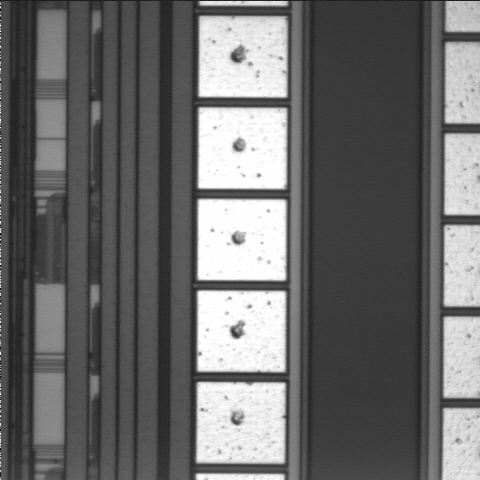pad: (197, 199, 286, 281), (197, 290, 286, 372), (196, 382, 285, 464), (198, 108, 287, 189), (199, 16, 287, 97)
